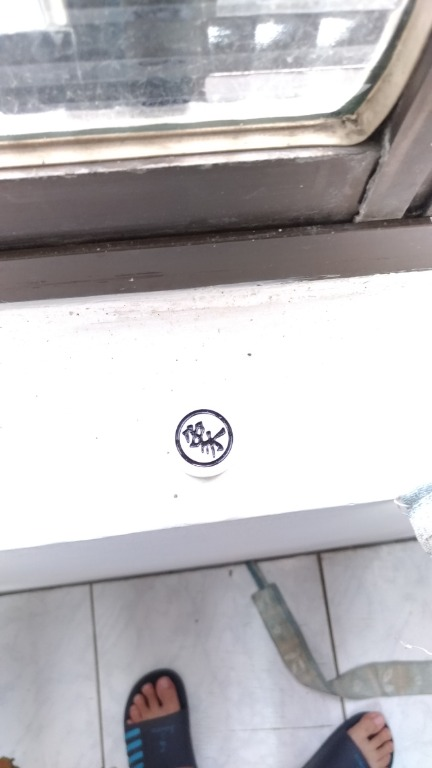b-elephant: (157, 406, 265, 488)
